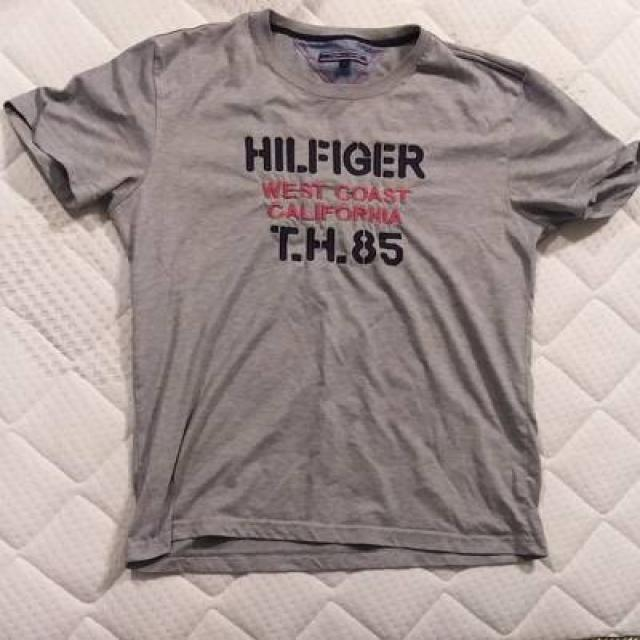shirt: (4, 12, 638, 577)
